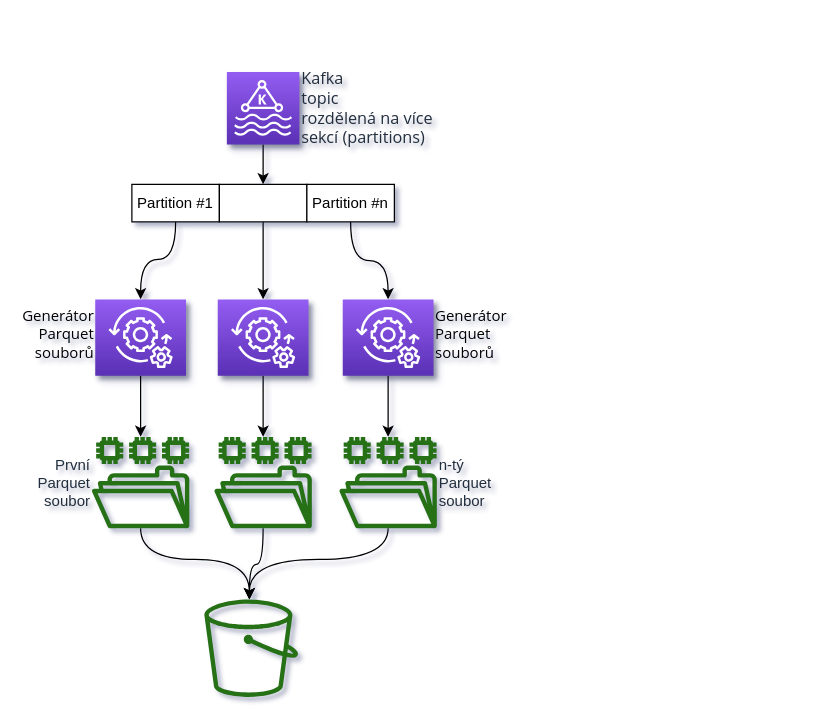
This 819x726 diagram has some shape labels left out. Grey dashed boxes stand in for pictures. The centre of each missing label's shape, as x and y in pixels:
CEPH bucket: point (251, 647)
Partition #2: point (262, 202)
